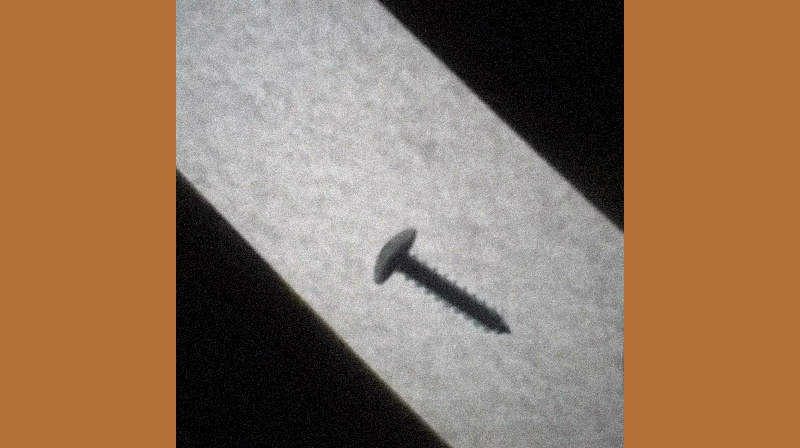S003: (371, 224, 515, 338)
